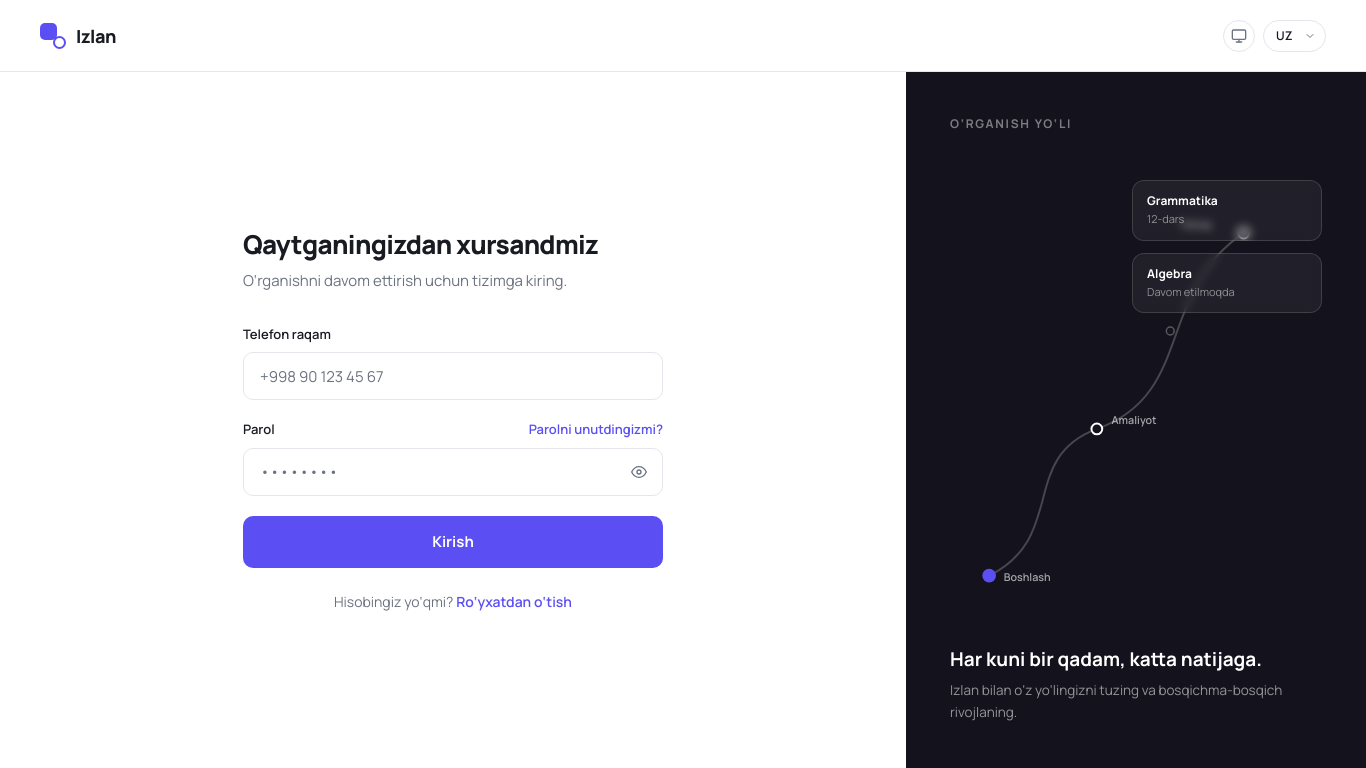
Scenario: Learner login (WEB-AUTH) › WEB-AUTH-03 a NetworkError shows the server/network message
In the field labelled "Telefon raqam": coordinates (453, 376) x1=243 y1=352 x2=663 y2=400, type "+998900000003"
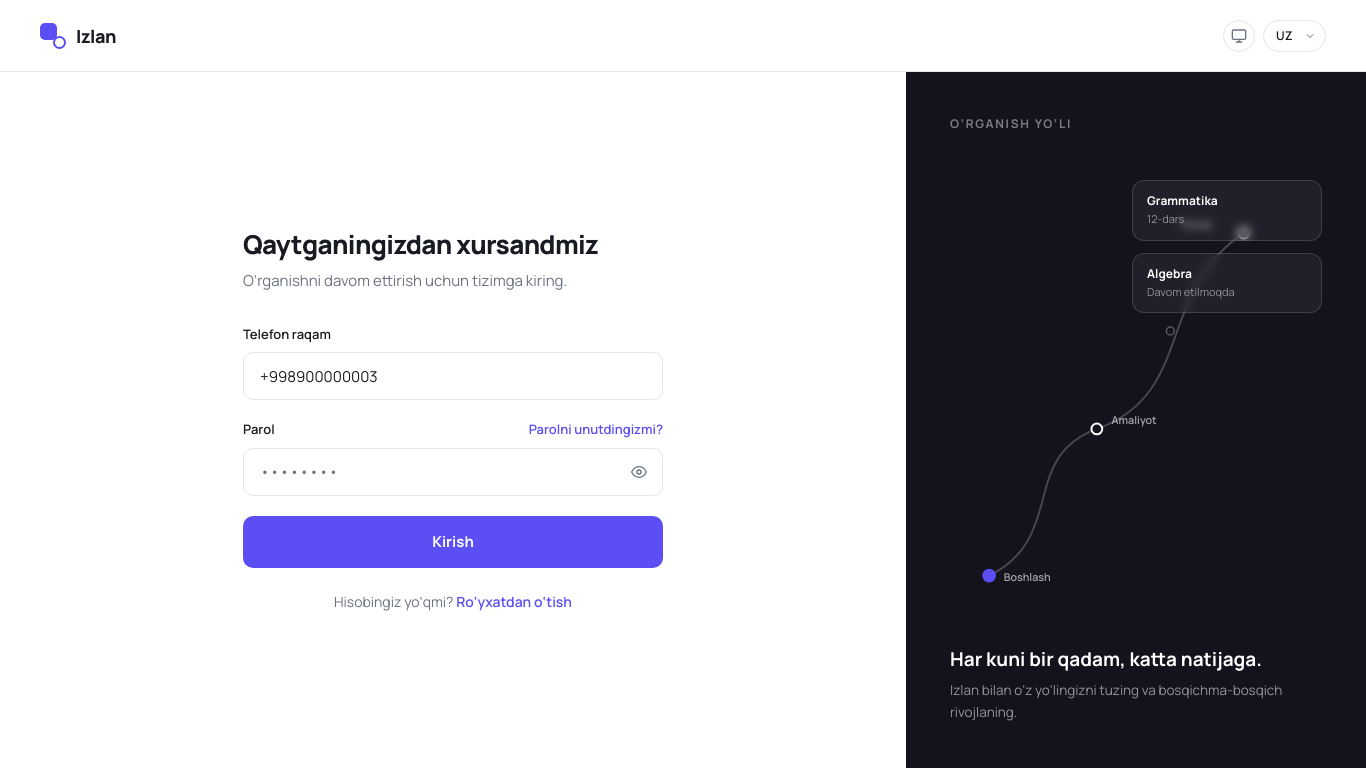
In the password field labelled "Parol": coordinates (453, 472) x1=243 y1=448 x2=663 y2=496, type "Passw0rd!123"
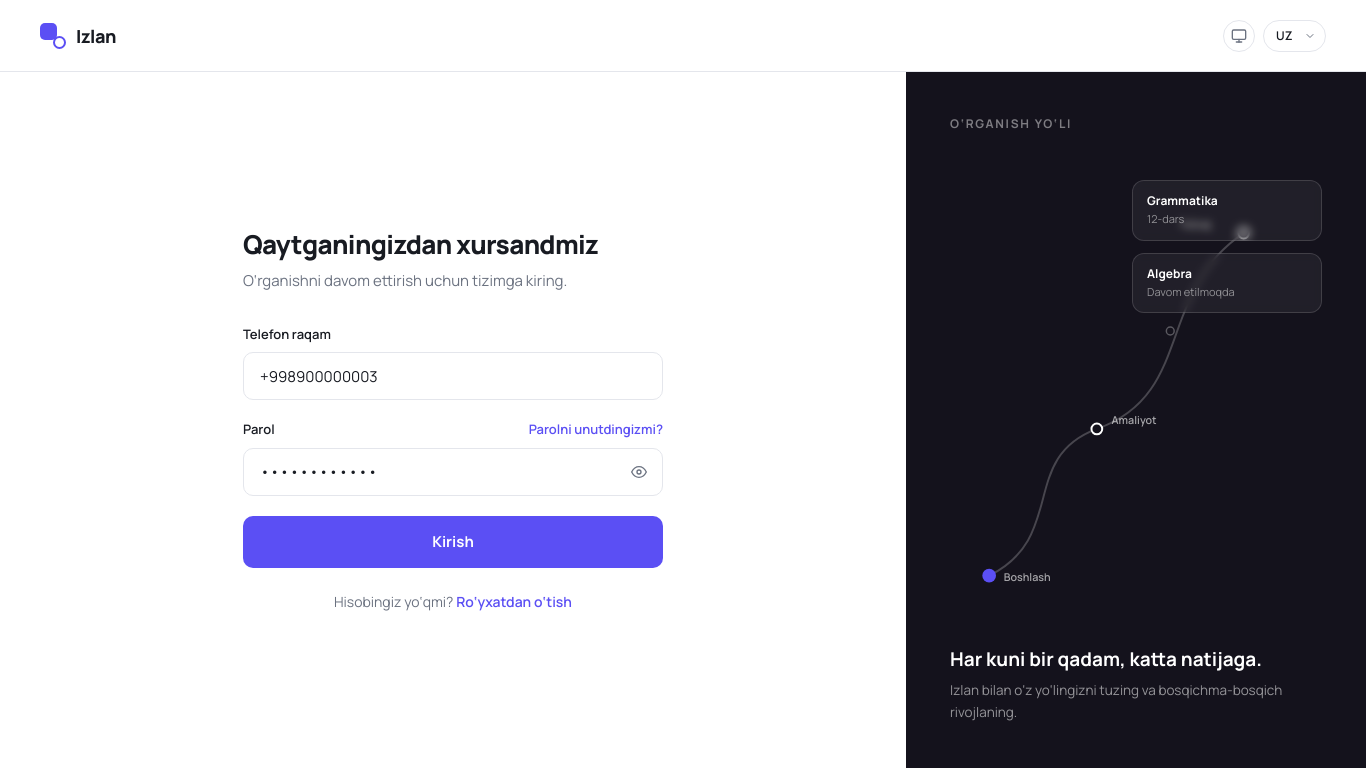
Click the button "Kirish": coordinates (453, 542) x1=243 y1=516 x2=663 y2=568
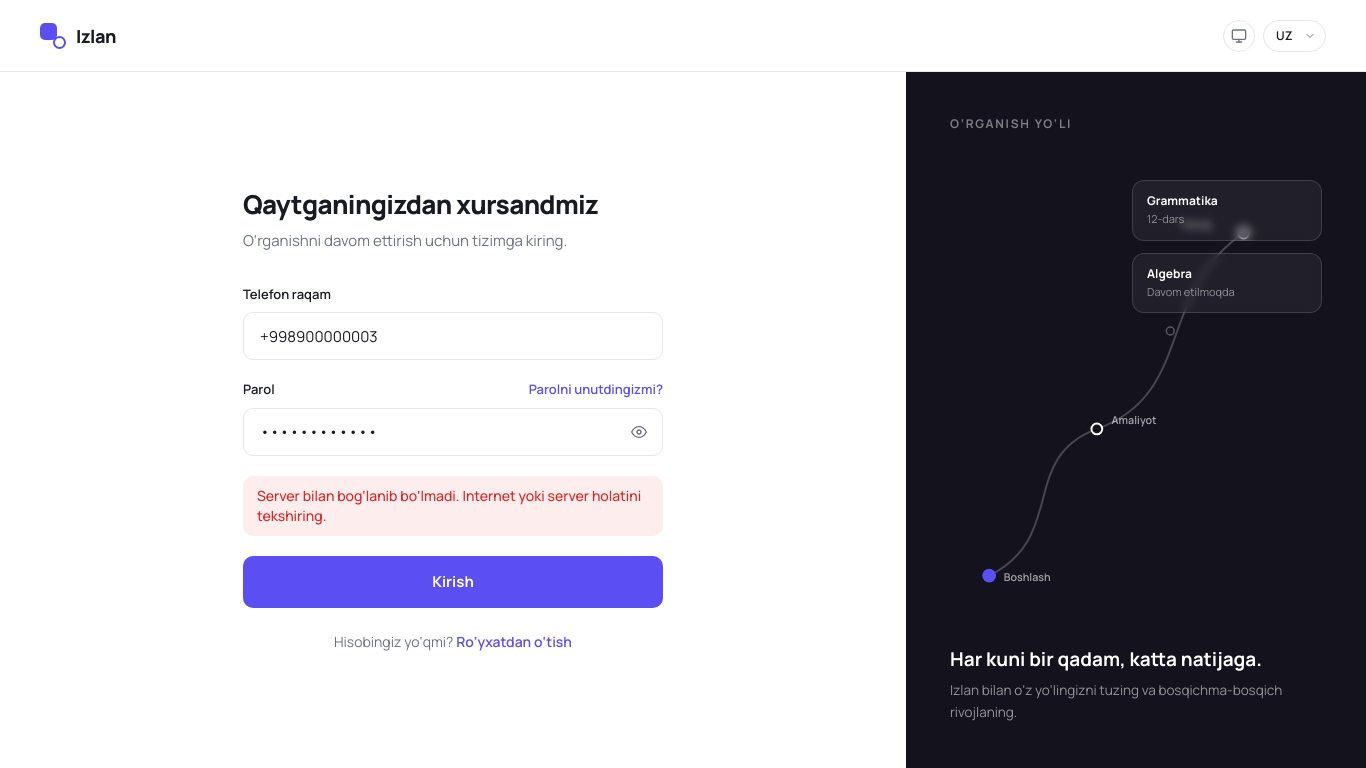
Check: the message reads "Server bilan bog‘lanib bo‘lmadi. Internet yoki server holatini tekshiring.", box x1=257 y1=486 x2=641 y2=525
